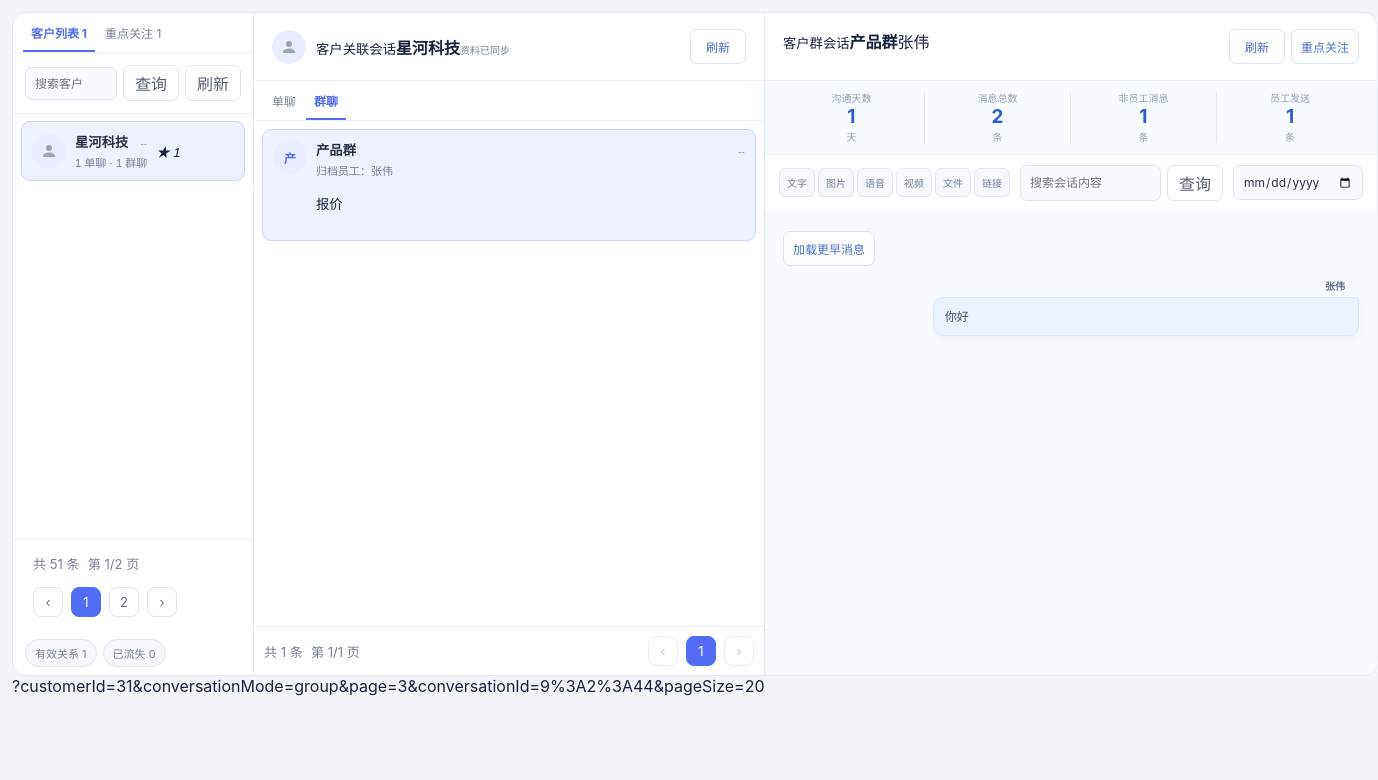
CustomerConversationPage › resets customer and conversation selection when scopes change
Expected: the button "星河科技 -- 1 单聊 · 1 群聊 ★ 1" is shown, [21, 121, 245, 181]
Click the tab "客户列表 1" at (59, 32), box [23, 13, 95, 52]
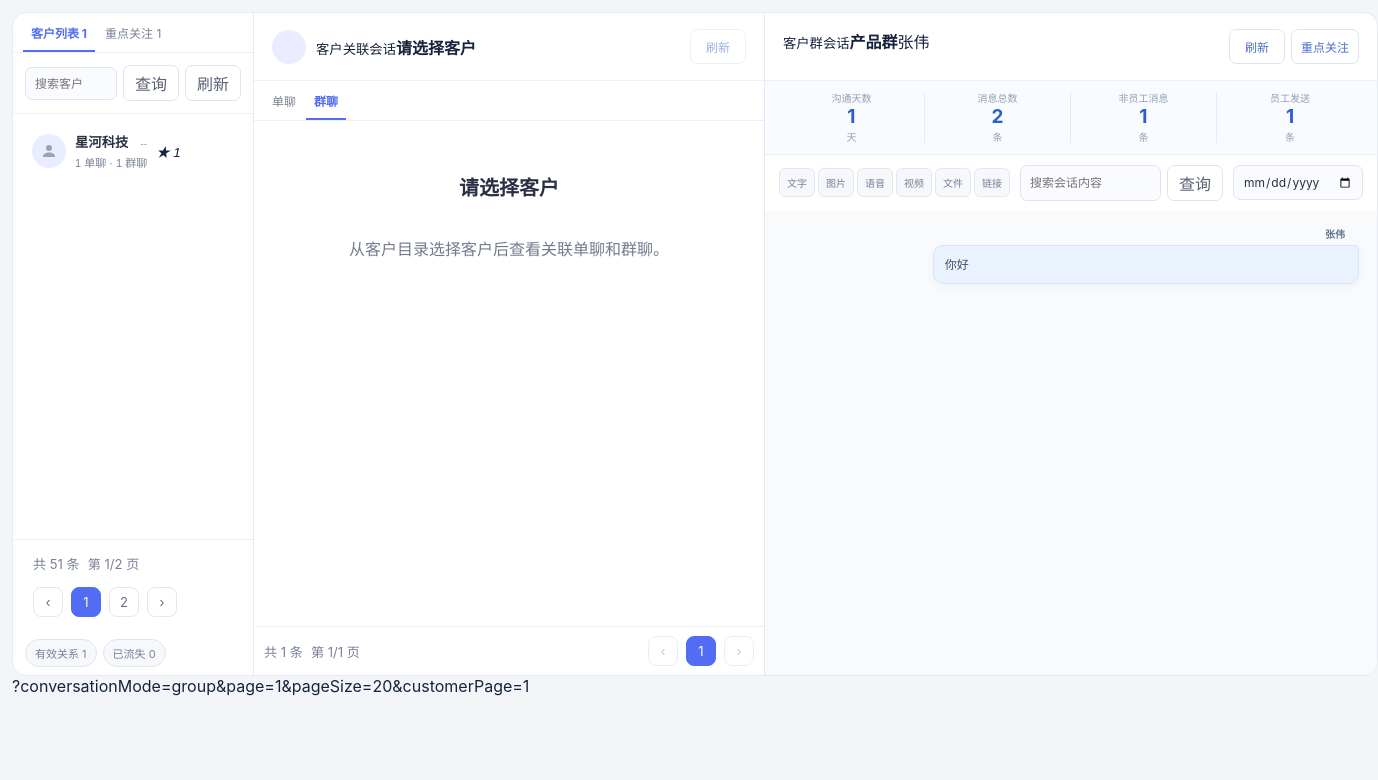
Result: the text with test id "location" no longer shows "customerId=31"
Result: the text with test id "location" no longer shows "conversationId="
